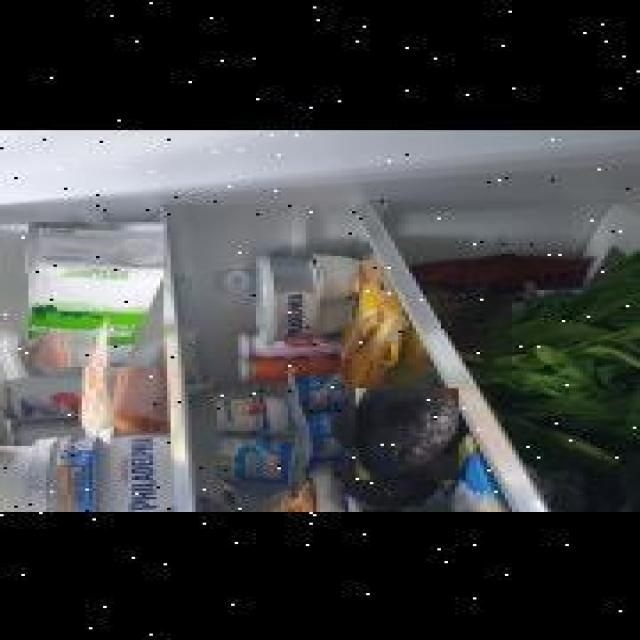avocado: (356, 386, 458, 478)
milk: (28, 220, 164, 365)
pak_choi: (512, 226, 640, 465)
sausage: (0, 213, 71, 354)
yogurt: (217, 429, 302, 488), (215, 392, 290, 431)
